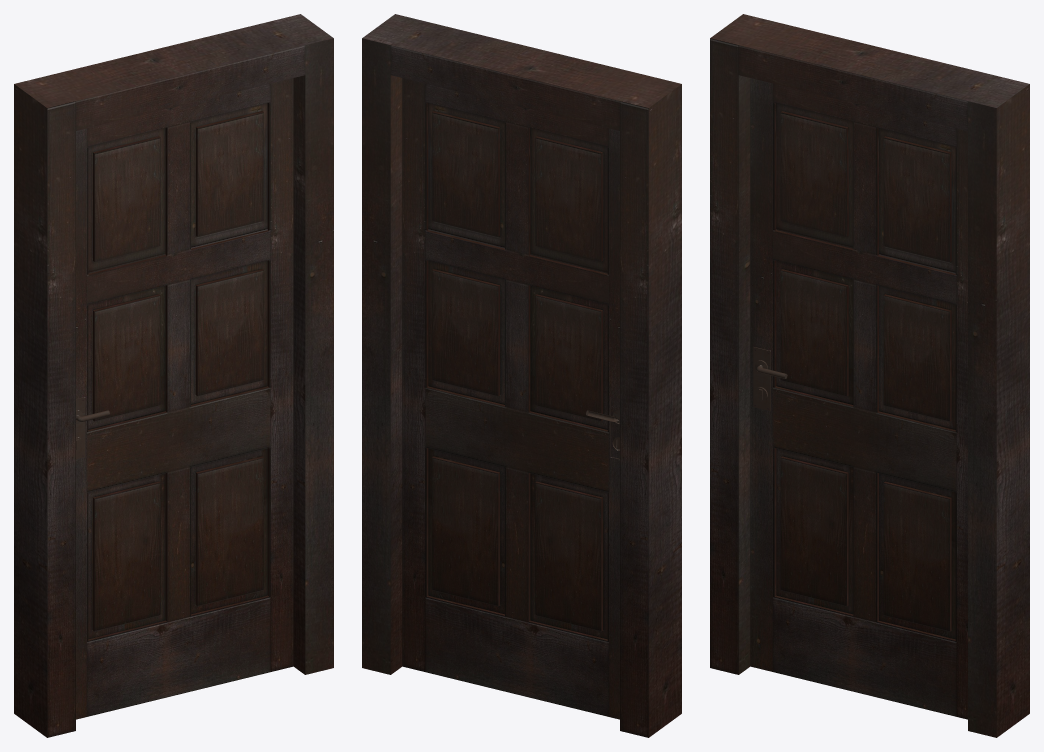
File: old_wooden_door.glb
3 renders of one model, left to right at view 1: azimuth 30°, elevation 25°; view 2: azimuth 150°, elevation 25°; view 3: azimuth 330°, elevation 25°, orthographic.
Visible parts, largest first — view 1: Door, DoorFrame, Cube.001; view 2: Door, DoorFrame; view 3: Door, DoorFrame, Cube.001.
Part boxes in pixels (x1,y1,x2,y2): Door: (76,78,293,719); DoorFrame: (14,14,333,737); Cube.001: (76,397,109,459); Door: (402,78,619,719); DoorFrame: (362,14,681,737); Door: (750,78,967,719); DoorFrame: (710,14,1029,737); Cube.001: (753,347,787,410).
Size of the model in its own units: 0.4112 by 0.8636 by 0.0822.
2 materials, 2 textured.
